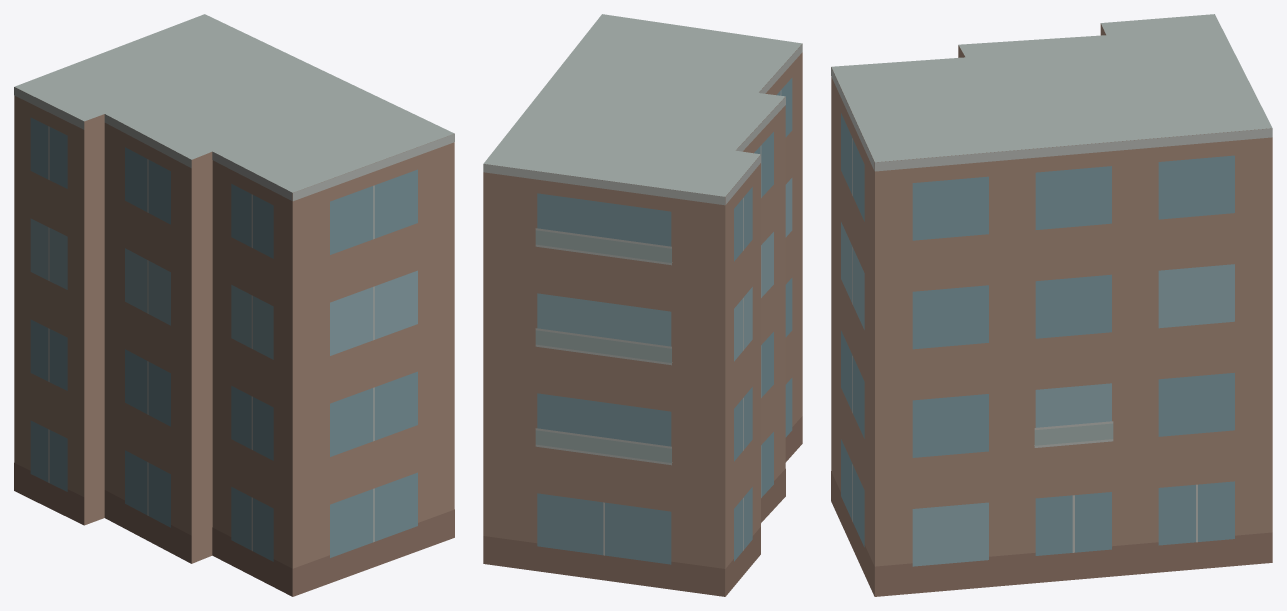
Rendered from survey-upis-33032460.glb.
The picture shows the model from 3 angles, left to right: view 1: azimuth 30°, elevation 25°; view 2: azimuth 150°, elevation 25°; view 3: azimuth 270°, elevation 25°; orthographic projection. The views are drawn at different scales.
Parts seen in each view (by area): view 1: survey-upis-33032460.tmp; view 2: survey-upis-33032460.tmp; view 3: survey-upis-33032460.tmp.
Part boxes in pixels (x1,y1,x2,y2): survey-upis-33032460.tmp: (14,14,454,596); survey-upis-33032460.tmp: (483,14,802,596); survey-upis-33032460.tmp: (831,14,1272,596).
Bounding box in the file's own units: 8.43 × 11.5 × 10.6.
